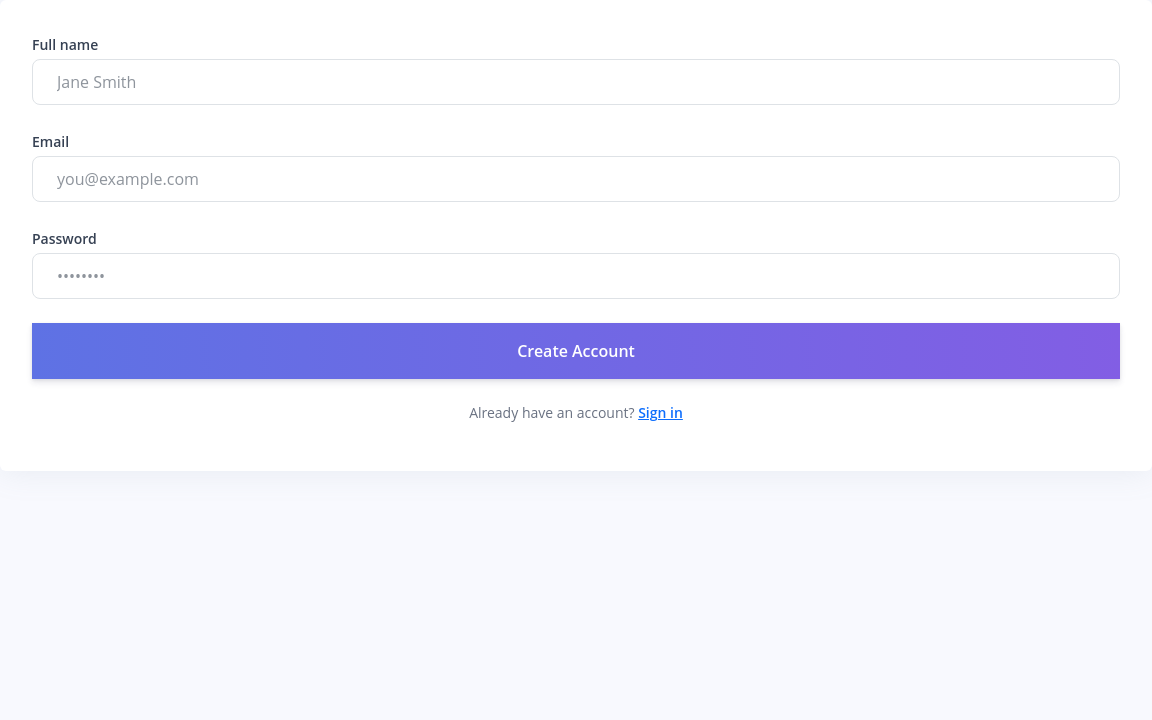
Test: Password requirements UI › shows requirements panel once user starts typing in the password field
Type "a" into the password field with test id "signup-password" at [576, 276], box [32,253,1120,299]
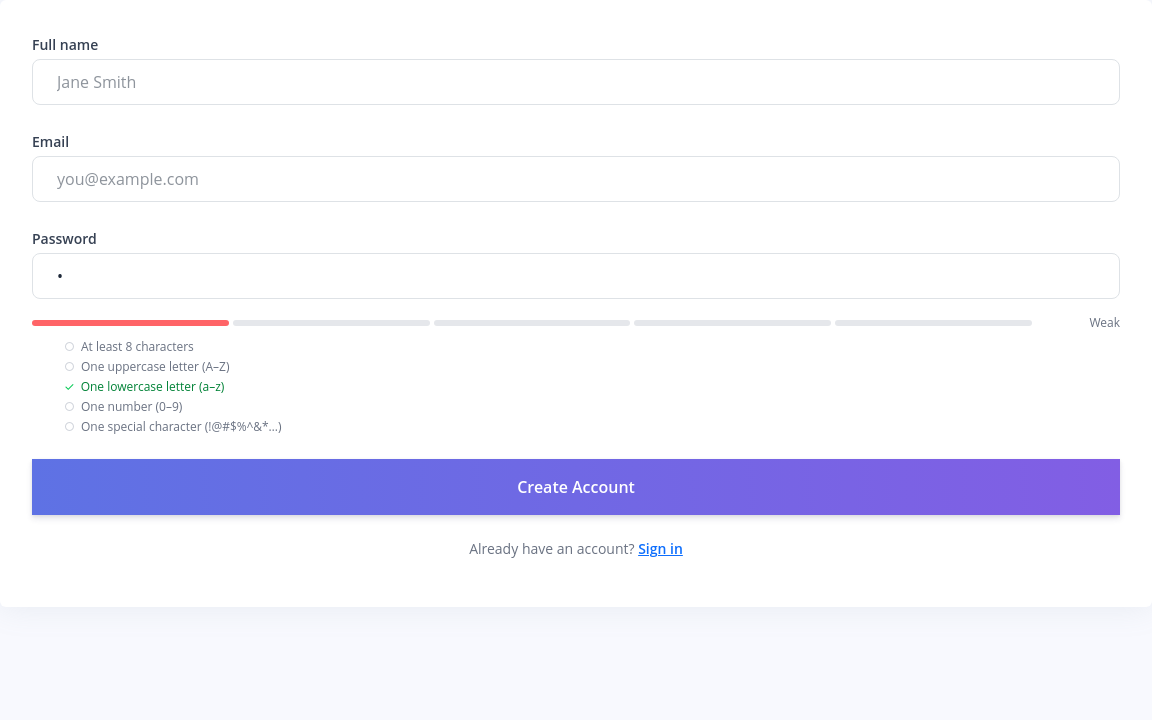
Check: the element with test id "password-requirements" is shown, box [32,315,1120,435]
